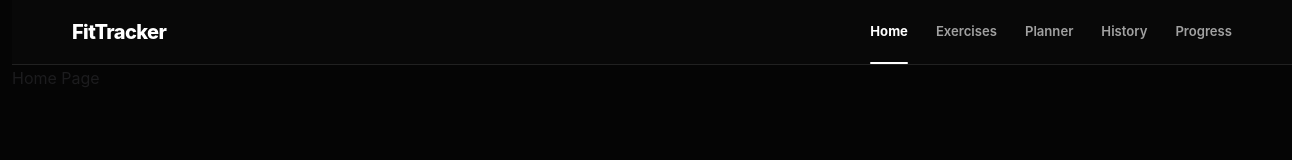
Navigation Integration › navigates to the Exercises page when Exercises link is clicked
The width and height of the screenshot is (1292, 160).
Click the link "Exercises": (966, 31) [936,23,997,39]
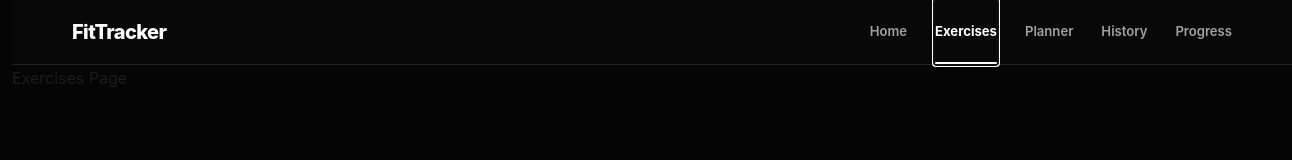
Check: the text "Exercises Page" is shown, box [12,68,127,88]
